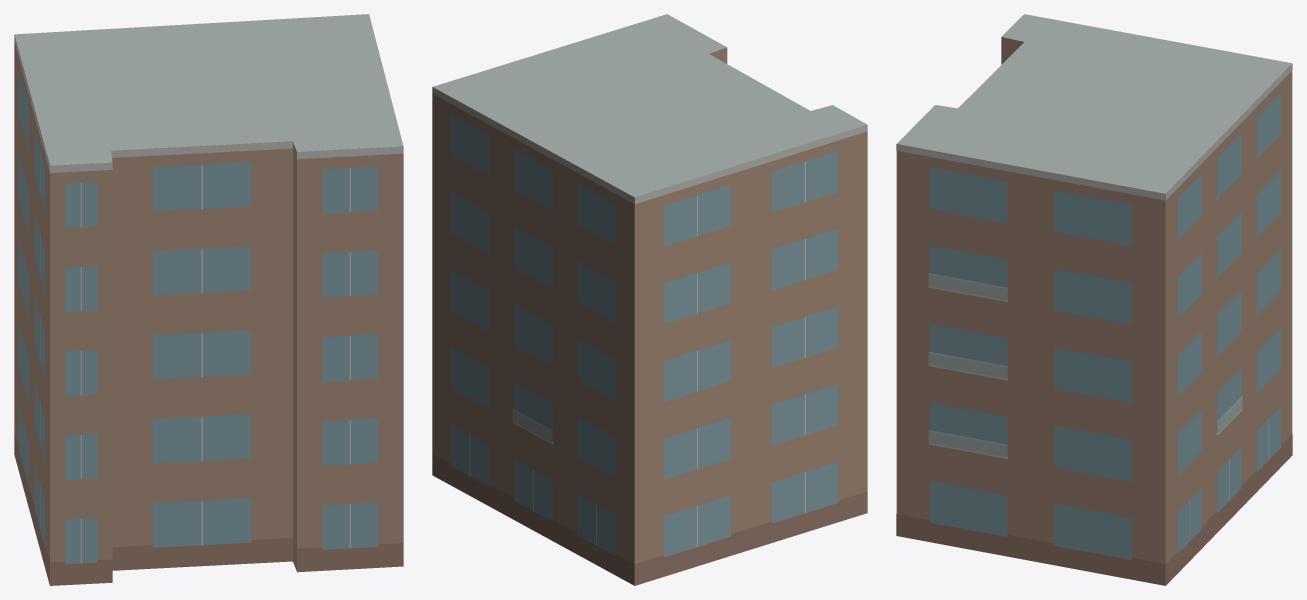
File: survey-upis-32902710.glb
3 views of the same model, side by side, from view 1: azimuth 30°, elevation 25°; view 2: azimuth 150°, elevation 25°; view 3: azimuth 270°, elevation 25° (orthographic). The views are drawn at different scales.
Visible parts, largest first — view 1: survey-upis-32902710.tmp; view 2: survey-upis-32902710.tmp; view 3: survey-upis-32902710.tmp.
Boxes of the visible parts, x1,y1,x2,y2 form: survey-upis-32902710.tmp: (14, 14, 403, 585); survey-upis-32902710.tmp: (432, 14, 867, 585); survey-upis-32902710.tmp: (896, 14, 1292, 585).
Size of the model in its own units: 13.88 by 14.1 by 12.91.
